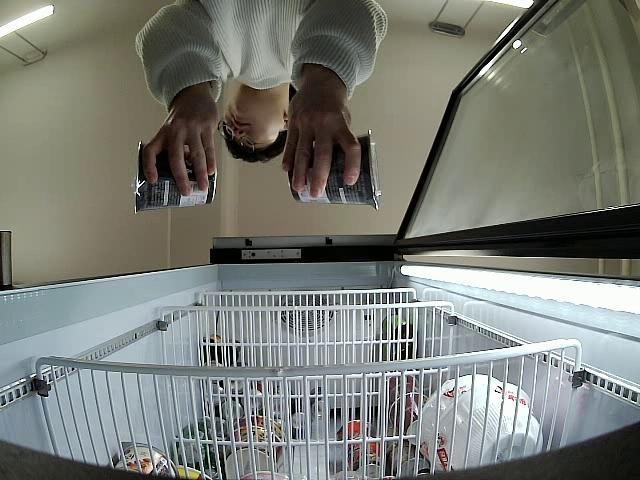08_buldak_S: (285, 131, 380, 209), (136, 141, 216, 213)
